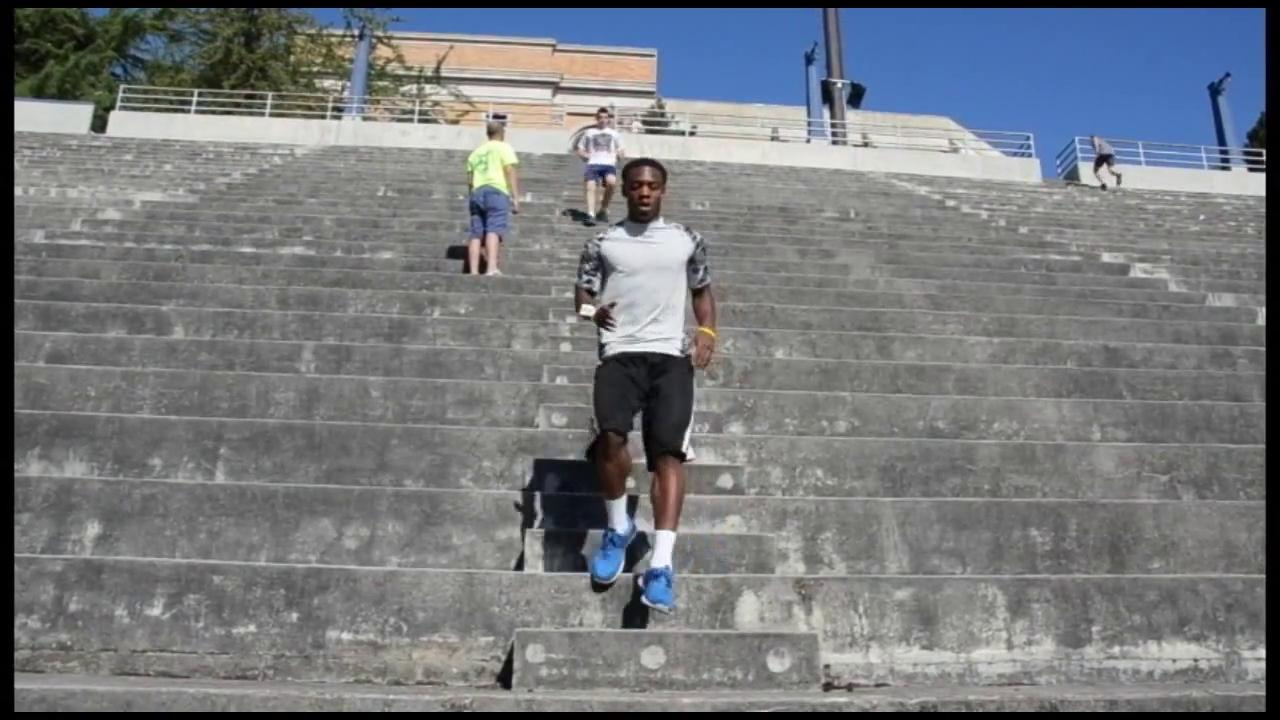victim: (563, 155, 722, 622), (460, 114, 524, 283), (570, 105, 627, 235), (1076, 131, 1138, 197)
